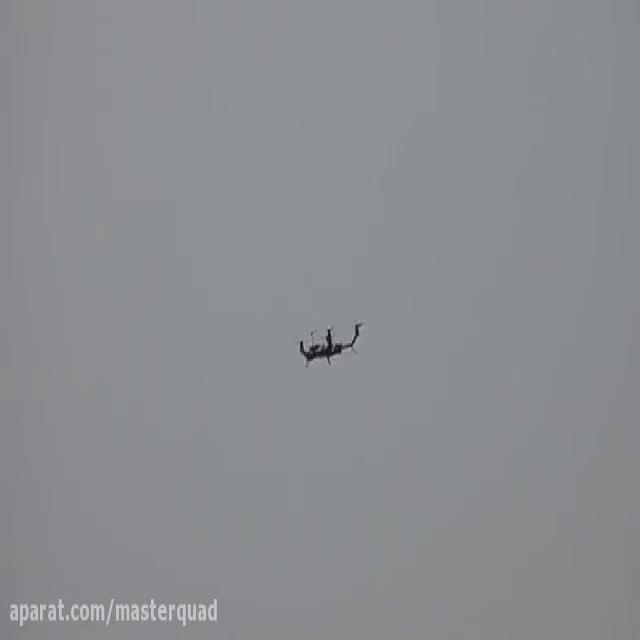drone: (288, 307, 367, 378)
